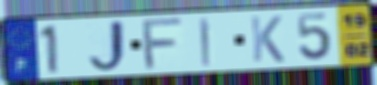1: (36, 23, 61, 75)
5: (296, 11, 334, 63)
F: (141, 16, 187, 72)
I: (198, 16, 213, 68)
J: (86, 18, 132, 74)
K: (248, 14, 287, 64)
